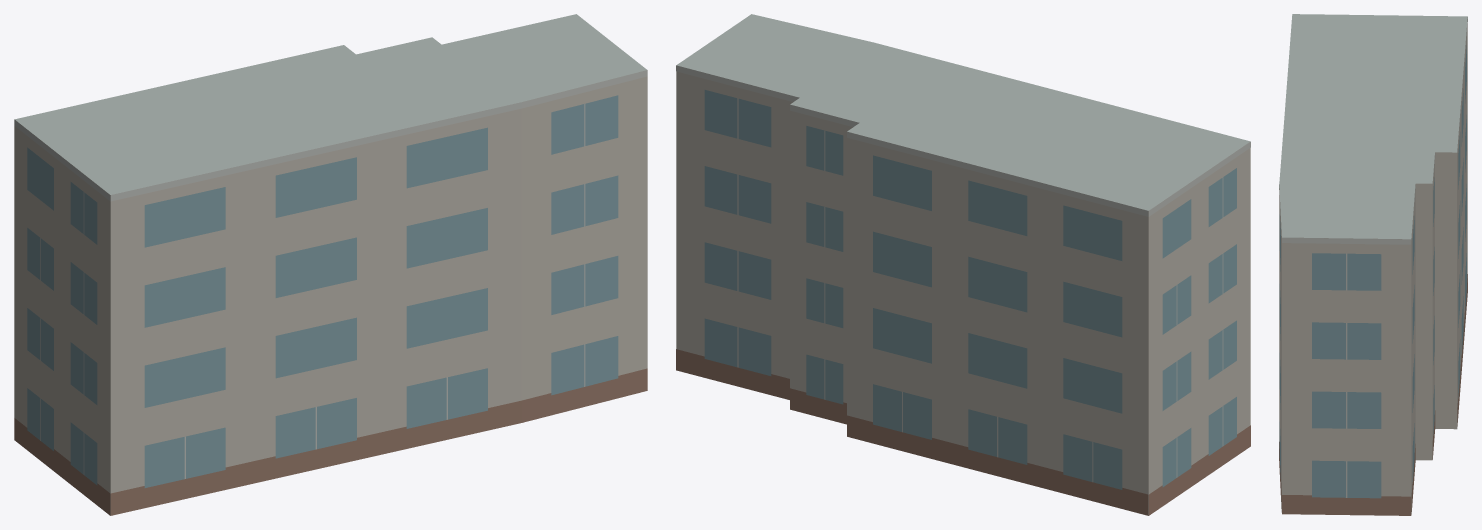
File: survey-upis-32974784.glb
The picture shows the model from 3 angles, left to right: view 1: azimuth 30°, elevation 25°; view 2: azimuth 150°, elevation 25°; view 3: azimuth 270°, elevation 25°; orthographic projection. The views are drawn at different scales.
Parts seen in each view (by area): view 1: survey-upis-32974784.tmp; view 2: survey-upis-32974784.tmp; view 3: survey-upis-32974784.tmp.
Boxes of the visible parts, box(x1,y1,x2,y2) form: survey-upis-32974784.tmp: box(14, 14, 647, 515); survey-upis-32974784.tmp: box(676, 14, 1250, 515); survey-upis-32974784.tmp: box(1279, 14, 1467, 515).
Size of the model in its own units: 21.31 by 12.2 by 7.54.
